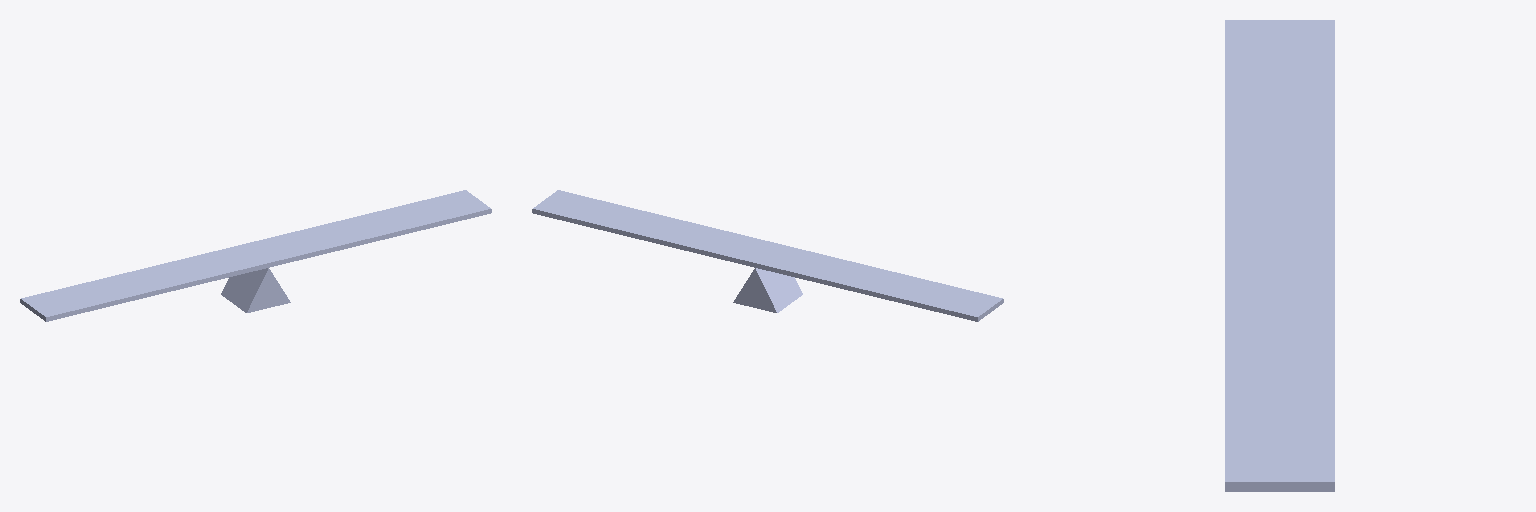
robot.urdf — final_plank:
<?xml version="1.0" encoding="utf-8"?>
<!-- This URDF was automatically created by SolidWorks to URDF Exporter! Originally created by [author] ([email redacted]) 
     Commit Version: 1.6.0-1-g15f4949  Build Version: 1.6.7594.29634
     For more information, please see http://wiki.ros.org/sw_urdf_exporter -->
<robot
  name="final_plank">
  <link
    name="prism">
    <inertial>
      <origin
        xyz="0.273547454868685 0.215840736668064 0.441635509533608"
        rpy="0 0 0" />
      <mass
        value="100" />
      <inertia
        ixx="4.20888346239235"
        ixy="-5.62812561082257E-15"
        ixz="1.58743381048034E-18"
        iyy="4.20888346239236"
        iyz="-2.6679716546464E-16"
        izz="2.80592230826157" />
    </inertial>
    <visual>
      <origin
        xyz="0 0 0"
        rpy="0 0 0" />
      <geometry>
        <mesh
          filename="package://final_plank/meshes/prism.STL" />
      </geometry>
      <material
        name="">
        <color
          rgba="0.792156862745098 0.819607843137255 0.933333333333333 1" />
      </material>
    </visual>
    <collision>
      <origin
        xyz="0 0 0"
        rpy="0 0 0" />
      <geometry>
        <mesh
          filename="package://final_plank/meshes/prism.STL" />
      </geometry>
    </collision>
  </link>
<gazebo reference="prism">
	<static>true</static>
</gazebo>
  <link
    name="plank">
    <inertial>
      <origin
        xyz="1.38777878078145E-15 0.0299999999999999 0.300000000000009"
        rpy="0 0 0" />
      <mass
        value="216" />
      <inertia
        ixx="6.54479999999999"
        ixy="-6.86339873823272E-13"
        ixz="1.89428638578259E-12"
        iyy="654.479999999999"
        iyz="5.01917770841E-16"
        izz="648.064799999999" />
    </inertial>
    <visual>
      <origin
        xyz="0 0 0"
        rpy="1.5708 0 0" />
      <geometry>
        <mesh
          filename="package://final_plank/meshes/plank.STL" />
      </geometry>
      <material
        name="">
        <color
          rgba="0.792156862745098 0.819607843137255 0.933333333333333 1" />
      </material>
    </visual>
    <collision>
      <origin
        xyz="0 0 0"
        rpy="0 0 0" />
      <geometry>
        <mesh
          filename="package://final_plank/meshes/plank.STL" />
      </geometry>
    </collision>
  </link>
  <joint
    name="rotate_1"
    type="continuous">
    <origin
      xyz="0.27355 -0.14164 0.56225"
       />
    <parent
      link="prism" />
    <child
      link="plank" />
    <axis
      xyz="0 1 0" />
    <limit
      effort="100"
      velocity="10000" />
  </joint>
    <link name="world"/>

  <joint name="grouding" type="fixed">
    <parent link="world"/>
    <child link="prism"/>
  </joint>

</robot>

--- Facts derived from the render (not from the file) ---
The picture shows the robot from 3 angles, left to right: view 1: azimuth 30°, elevation 25°; view 2: azimuth 150°, elevation 25°; view 3: azimuth 270°, elevation 25°; orthographic projection.
Model final_plank with 3 links and 2 joints (1 continuous, 1 fixed), rooted at world, posed all joints at 0.
Visible links, largest first — view 1: plank, prism; view 2: plank, prism; view 3: plank.
Boxes of the visible links, x1,y1,x2,y2 form: plank: (20,190,491,321); prism: (221,268,290,312); plank: (532,190,1003,321); prism: (733,268,802,312); plank: (1225,20,1334,491).
Bounding box of the posed robot: 6 × 0.6 × 0.5796 m (x, y, z).
2 mesh visuals loaded from 2 distinct referenced files (2 binary STL).